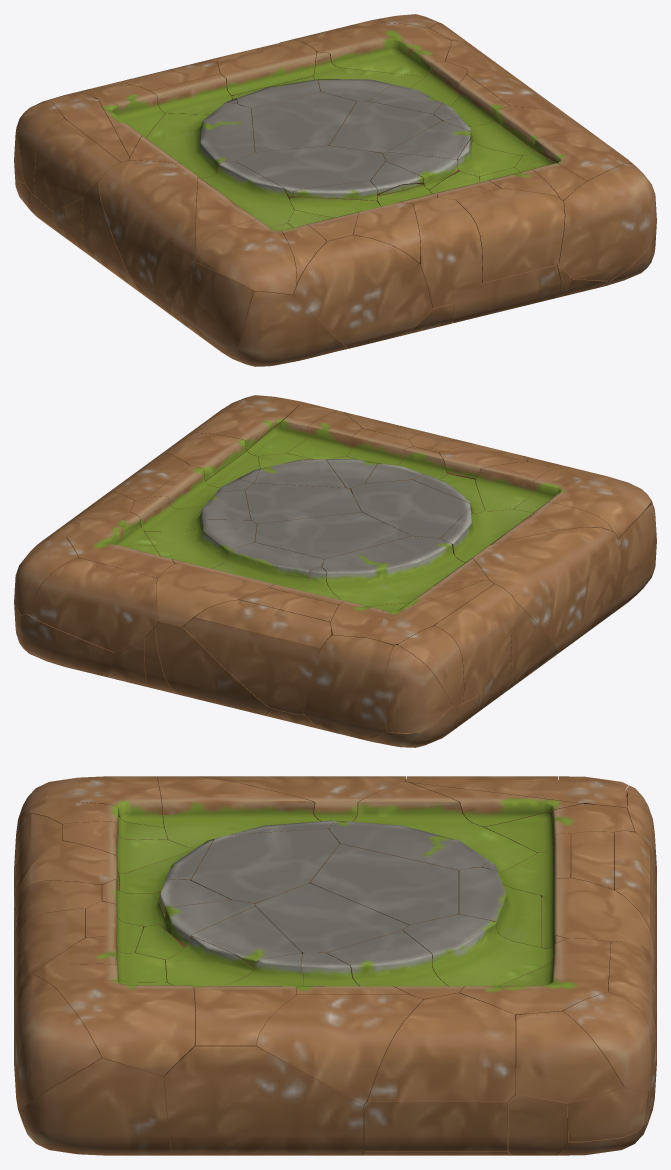
Rendered from arena block 1 broken.fbx.
3 views of the same model, one above another, from view 1: azimuth 30°, elevation 25°; view 2: azimuth 150°, elevation 25°; view 3: azimuth 270°, elevation 25° (orthographic). The views are drawn at different scales.
Visible parts, largest first — view 1: arena block 1 lp_cell.049, arena block 1 lp_cell.067, arena block 1 lp_cell.036, arena block 1 lp_cell.053, arena block 1 lp_cell.095, arena block 1 lp_cell.080, arena block 1 lp_cell.063, arena block 1 lp_cell.097, arena block 1 lp_cell.006, arena block 1 lp_cell.013, arena block 1 lp_cell, arena block 1 lp_cell.077 (+39 smaller); view 2: arena block 1 lp_cell.067, arena block 1 lp_cell.040, arena block 1 lp_cell.095, arena block 1 lp_cell.089, arena block 1 lp_cell.091, arena block 1 lp_cell.077, arena block 1 lp_cell.096, arena block 1 lp_cell.023, arena block 1 lp_cell.037, arena block 1 lp_cell.013, arena block 1 lp_cell.020, arena block 1 lp_cell.063 (+41 smaller); view 3: arena block 1 lp_cell.078, arena block 1 lp_cell.038, arena block 1 lp_cell.026, arena block 1 lp_cell.012, arena block 1 lp_cell.095, arena block 1 lp_cell.054, arena block 1 lp_cell.013, arena block 1 lp_cell.023, arena block 1 lp_cell.037, arena block 1 lp_cell.015, arena block 1 lp_cell.036, arena block 1 lp_cell.090 (+43 smaller).
Part boxes in pixels (x1,y1,x2,y2): arena block 1 lp_cell.049: (293, 235, 432, 348); arena block 1 lp_cell.067: (99, 160, 198, 316); arena block 1 lp_cell.036: (558, 163, 656, 280); arena block 1 lp_cell.053: (456, 188, 564, 282); arena block 1 lp_cell.095: (129, 103, 255, 178); arena block 1 lp_cell.080: (413, 197, 482, 308); arena block 1 lp_cell.063: (301, 23, 451, 76); arena block 1 lp_cell.097: (237, 291, 347, 366); arena block 1 lp_cell.006: (195, 219, 296, 295); arena block 1 lp_cell.013: (196, 161, 294, 250); arena block 1 lp_cell: (170, 262, 254, 361); arena block 1 lp_cell.077: (34, 119, 120, 210); arena block 1 lp_cell.067: (472, 527, 617, 653); arena block 1 lp_cell.040: (27, 558, 158, 652); arena block 1 lp_cell.095: (322, 536, 488, 606); arena block 1 lp_cell.089: (303, 635, 393, 739); arena block 1 lp_cell.091: (183, 618, 320, 714); arena block 1 lp_cell.077: (434, 584, 516, 702); arena block 1 lp_cell.096: (155, 621, 269, 715); arena block 1 lp_cell.023: (255, 512, 411, 559); arena block 1 lp_cell.037: (351, 480, 472, 538); arena block 1 lp_cell.013: (441, 502, 612, 562); arena block 1 lp_cell.020: (156, 562, 274, 627); arena block 1 lp_cell.063: (67, 512, 174, 578); arena block 1 lp_cell.078: (164, 1046, 363, 1155); arena block 1 lp_cell.038: (368, 993, 515, 1101); arena block 1 lp_cell.026: (19, 1058, 172, 1155); arena block 1 lp_cell.012: (256, 995, 423, 1105); arena block 1 lp_cell.095: (329, 781, 537, 872); arena block 1 lp_cell.054: (56, 980, 195, 1077); arena block 1 lp_cell.013: (157, 776, 333, 848); arena block 1 lp_cell.023: (310, 844, 458, 924); arena block 1 lp_cell.037: (191, 829, 339, 905); arena block 1 lp_cell.015: (364, 1100, 507, 1151); arena block 1 lp_cell.036: (14, 974, 101, 1112); arena block 1 lp_cell.090: (516, 1011, 623, 1102).
Bounding box in the file's own units: 200 × 49.95 × 200.
